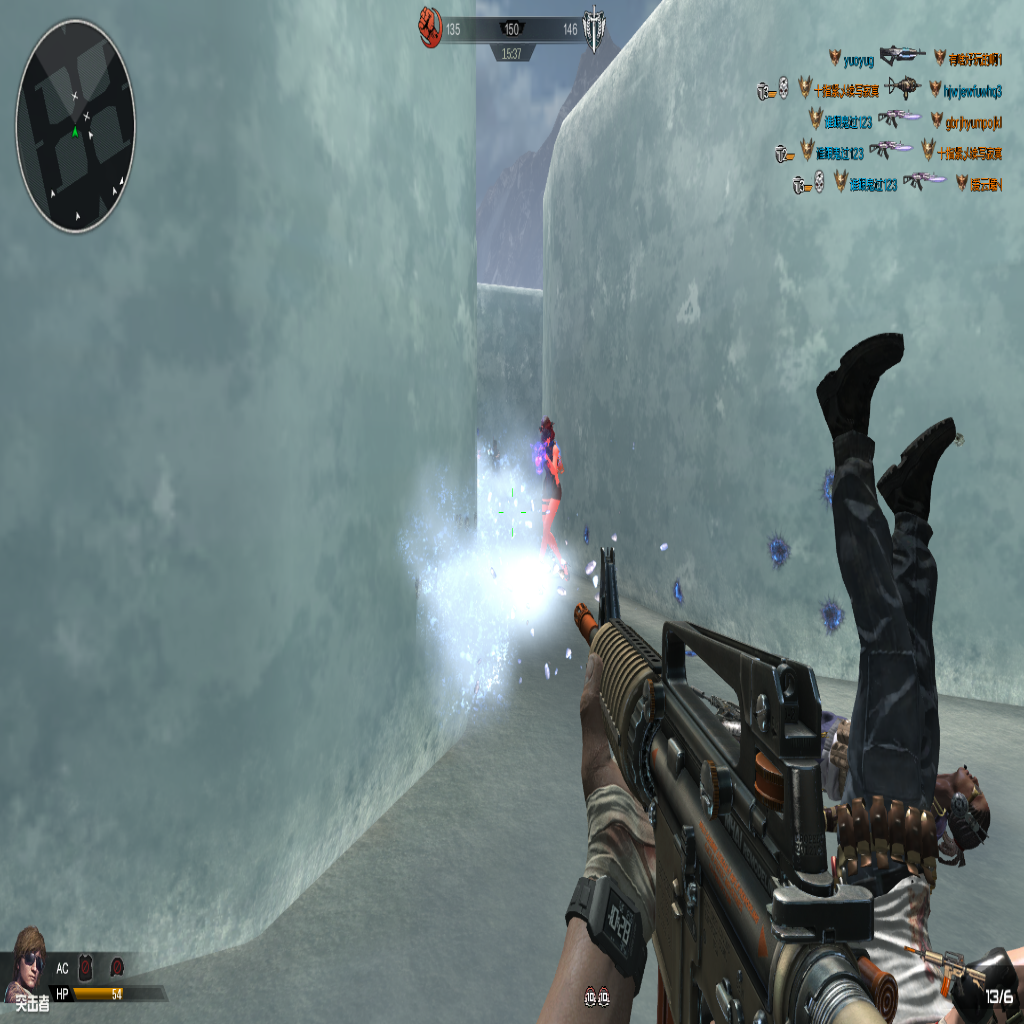ct: (536, 416, 564, 575)
